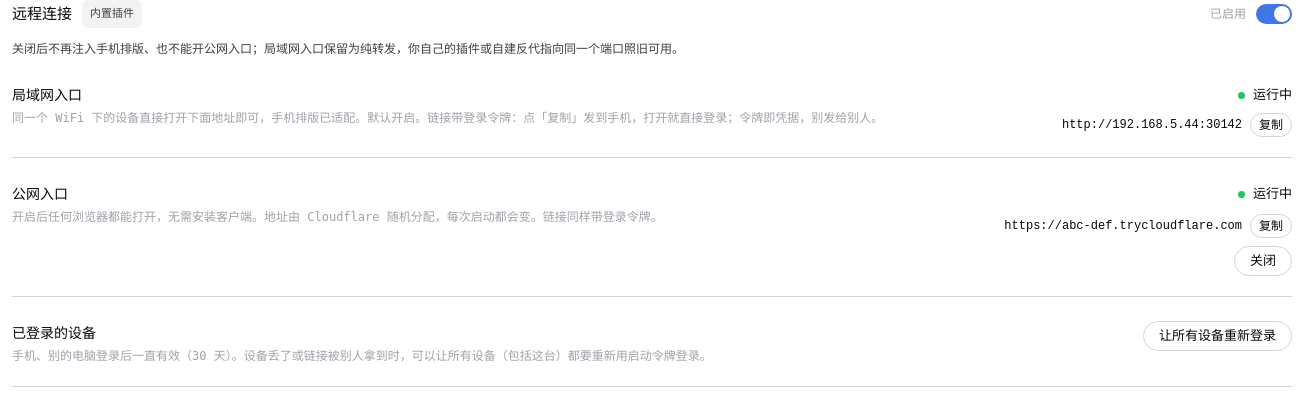
Scenario: remote entry links › links and copies the tokened address but only shows the bare one
Click the button "复制" next to "http://192.168.5.44:30142": (1271, 125) [1250,113,1292,137]
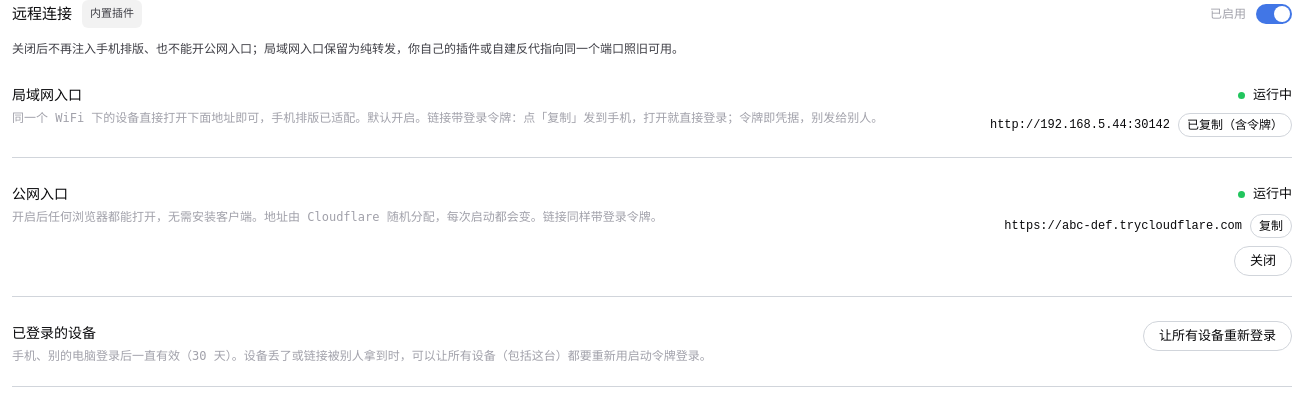
Expected: the button "已复制（含令牌）" is shown, [1178,113,1292,137]
